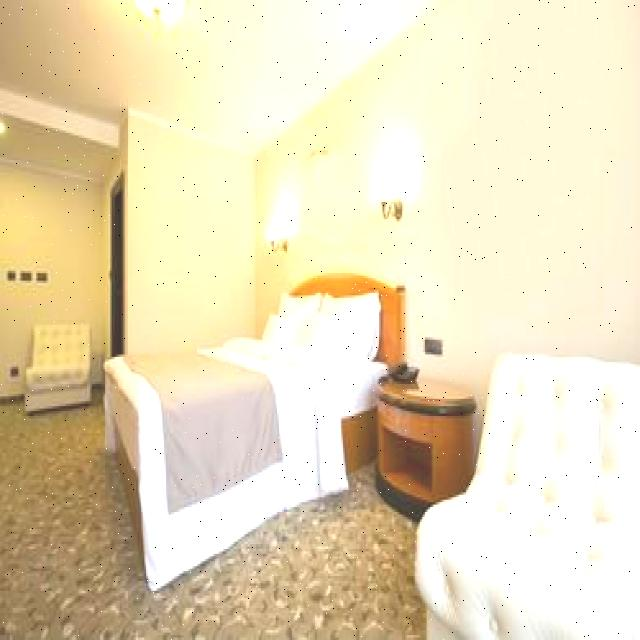bed: (89, 281, 390, 552)
